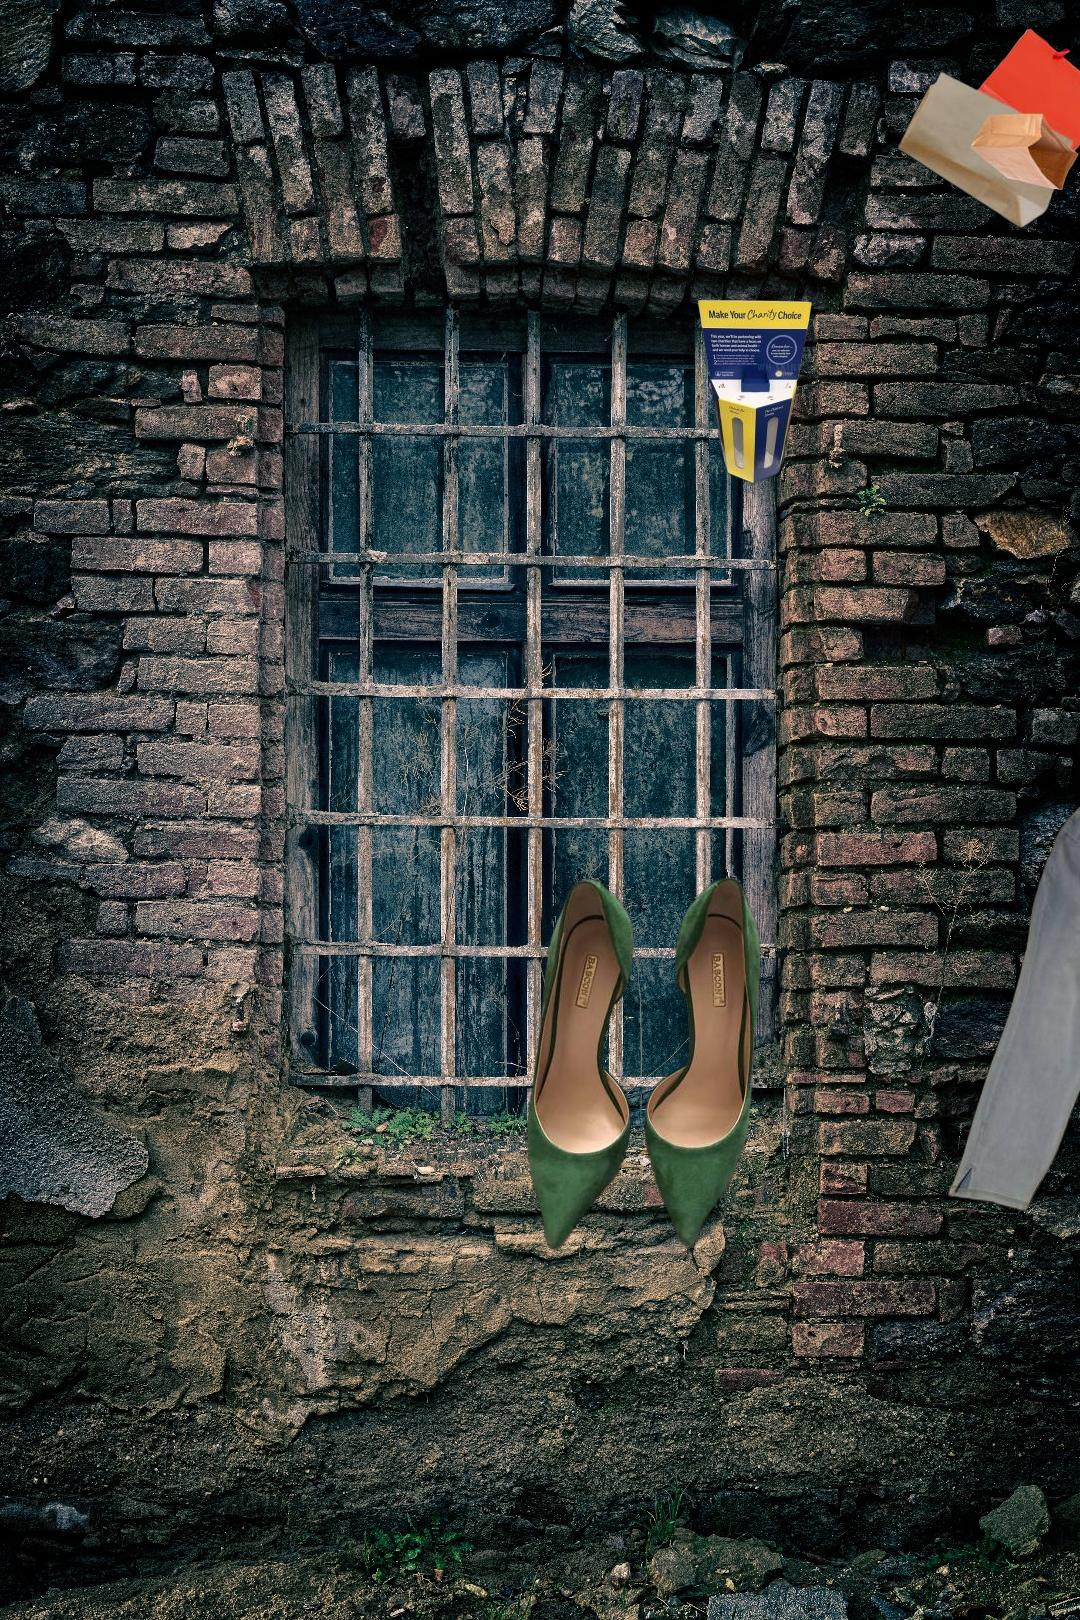clothes: (944, 797, 1080, 1222)
paper-bag: (894, 25, 1080, 230)
shoes: (524, 867, 763, 1255)
trashbox-cardboard: (695, 297, 814, 495)
